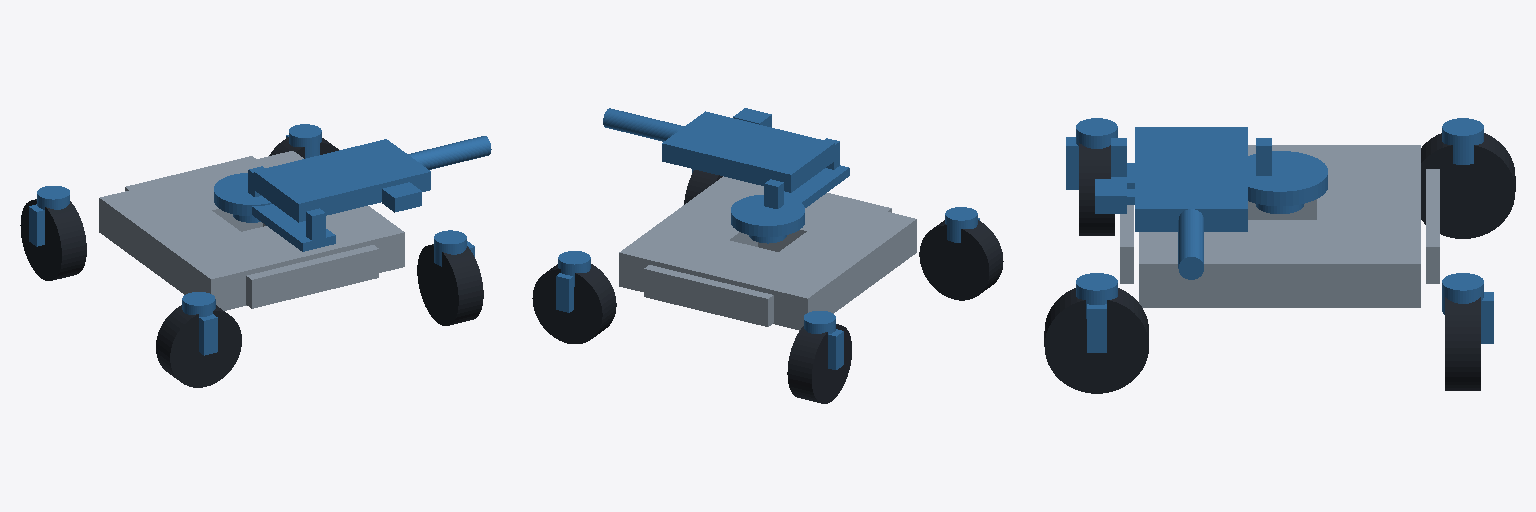
robot.urdf — tunnel_sentinel:
<?xml version='1.0' encoding='utf-8'?>
<robot name="tunnel_sentinel">
  <link name="base_link">
    <inertial>
      <origin xyz="0 0 0.00586978866055" rpy="0 0 0" />
      <mass value="38.1035776062" />
      <inertia ixx="1.02391846654" iyy="1.02391846655" izz="1.95088962633" ixy="0" ixz="0" iyz="0" />
    </inertial>
    <visual name="base_link_visual">
      <geometry>
        <mesh filename="meshes/chassis.stl" />
      </geometry>
      <material name="chassis_material">
        <color rgba="0.60 0.65 0.70 1" />
      </material>
    </visual>
    <collision name="base_link_collision">
      <geometry>
        <mesh filename="meshes/chassis.stl" />
      </geometry>
    </collision>
  </link>
  <link name="gimbal_yaw_link">
    <inertial>
      <origin xyz="-0.00527983192955 0.037796342411 0.0456967479311" rpy="0 0 0" />
      <mass value="11.4819142525" />
      <inertia ixx="0.102749561255" iyy="0.169291860926" izz="0.256619770567" ixy="-0.010778472544" ixz="0.00117021289422" iyz="0.00142237073929" />
    </inertial>
    <visual name="gimbal_yaw_link_visual">
      <geometry>
        <mesh filename="meshes/gimbal_yaw.stl" />
      </geometry>
      <material name="gimbal_yaw_material">
        <color rgba="0.25 0.48 0.68 1" />
      </material>
    </visual>
    <collision name="gimbal_yaw_link_collision">
      <geometry>
        <mesh filename="meshes/gimbal_yaw.stl" />
      </geometry>
    </collision>
  </link>
  <link name="gimbal_pitch_link">
    <inertial>
      <origin xyz="0.133070260132 -0.0655277685404 0" rpy="0 0 0" />
      <mass value="1.82471587885" />
      <inertia ixx="0.00405849922592" iyy="0.0131994867003" izz="0.0158053385647" ixy="0.00308032882862" ixz="0" iyz="0" />
    </inertial>
    <visual name="gimbal_pitch_link_visual">
      <geometry>
        <mesh filename="meshes/gimbal_pitch.stl" />
      </geometry>
      <material name="gimbal_pitch_material">
        <color rgba="0.25 0.48 0.68 1" />
      </material>
    </visual>
    <collision name="gimbal_pitch_link_collision">
      <geometry>
        <mesh filename="meshes/gimbal_pitch.stl" />
      </geometry>
    </collision>
  </link>
  <link name="front_right_steering_link">
    <inertial>
      <origin xyz="0.00866419643516 0 -0.0156793481547" rpy="0 0 0" />
      <mass value="0.217830303563" />
      <inertia ixx="0.000234818798716" iyy="0.000264436848785" izz="0.000367075647958" ixy="0" ixz="4.9125047133e-05" iyz="0" />
    </inertial>
    <visual name="front_right_steering_link_visual">
      <geometry>
        <mesh filename="meshes/steering.stl" />
      </geometry>
      <material name="steering_material">
        <color rgba="0.25 0.48 0.68 1" />
      </material>
    </visual>
    <collision name="front_right_steering_link_collision">
      <geometry>
        <mesh filename="meshes/steering.stl" />
      </geometry>
    </collision>
  </link>
  <link name="front_right_wheel_link">
    <inertial>
      <origin xyz="-0.03 -4.44383418952e-12 0" rpy="0 0 0" />
      <mass value="0.340470103833" />
      <inertia ixx="0.000307487042668" iyy="0.000255884532628" izz="0.00025588457234" ixy="0" ixz="0" iyz="0" />
    </inertial>
    <visual name="front_right_wheel_link_visual">
      <geometry>
        <mesh filename="meshes/wheel.stl" />
      </geometry>
      <material name="wheel_material">
        <color rgba="0.18 0.20 0.23 1" />
      </material>
    </visual>
    <collision name="front_right_wheel_link_collision">
      <geometry>
        <mesh filename="meshes/wheel.stl" />
      </geometry>
    </collision>
  </link>
  <link name="rear_right_steering_link">
    <inertial>
      <origin xyz="0.00866419643516 0 -0.0156793481547" rpy="0 0 0" />
      <mass value="0.217830303563" />
      <inertia ixx="0.000234818798716" iyy="0.000264436848785" izz="0.000367075647958" ixy="0" ixz="4.9125047133e-05" iyz="0" />
    </inertial>
    <visual name="rear_right_steering_link_visual">
      <geometry>
        <mesh filename="meshes/steering.stl" />
      </geometry>
      <material name="steering_material">
        <color rgba="0.25 0.48 0.68 1" />
      </material>
    </visual>
    <collision name="rear_right_steering_link_collision">
      <geometry>
        <mesh filename="meshes/steering.stl" />
      </geometry>
    </collision>
  </link>
  <link name="rear_right_wheel_link">
    <inertial>
      <origin xyz="-0.03 -4.44383418952e-12 0" rpy="0 0 0" />
      <mass value="0.340470103833" />
      <inertia ixx="0.000307487042668" iyy="0.000255884532628" izz="0.00025588457234" ixy="0" ixz="0" iyz="0" />
    </inertial>
    <visual name="rear_right_wheel_link_visual">
      <geometry>
        <mesh filename="meshes/wheel.stl" />
      </geometry>
      <material name="wheel_material">
        <color rgba="0.18 0.20 0.23 1" />
      </material>
    </visual>
    <collision name="rear_right_wheel_link_collision">
      <geometry>
        <mesh filename="meshes/wheel.stl" />
      </geometry>
    </collision>
  </link>
  <link name="rear_left_steering_link">
    <inertial>
      <origin xyz="0.00866419643516 0 -0.0156793481547" rpy="0 0 0" />
      <mass value="0.217830303563" />
      <inertia ixx="0.000234818798716" iyy="0.000264436848785" izz="0.000367075647958" ixy="0" ixz="4.9125047133e-05" iyz="0" />
    </inertial>
    <visual name="rear_left_steering_link_visual">
      <geometry>
        <mesh filename="meshes/steering.stl" />
      </geometry>
      <material name="steering_material">
        <color rgba="0.25 0.48 0.68 1" />
      </material>
    </visual>
    <collision name="rear_left_steering_link_collision">
      <geometry>
        <mesh filename="meshes/steering.stl" />
      </geometry>
    </collision>
  </link>
  <link name="rear_left_wheel_link">
    <inertial>
      <origin xyz="-0.03 -4.44383418952e-12 0" rpy="0 0 0" />
      <mass value="0.340470103833" />
      <inertia ixx="0.000307487042668" iyy="0.000255884532628" izz="0.00025588457234" ixy="0" ixz="0" iyz="0" />
    </inertial>
    <visual name="rear_left_wheel_link_visual">
      <geometry>
        <mesh filename="meshes/wheel.stl" />
      </geometry>
      <material name="wheel_material">
        <color rgba="0.18 0.20 0.23 1" />
      </material>
    </visual>
    <collision name="rear_left_wheel_link_collision">
      <geometry>
        <mesh filename="meshes/wheel.stl" />
      </geometry>
    </collision>
  </link>
  <link name="front_left_steering_link">
    <inertial>
      <origin xyz="0.00866419643516 0 -0.0156793481547" rpy="0 0 0" />
      <mass value="0.217830303563" />
      <inertia ixx="0.000234818798716" iyy="0.000264436848785" izz="0.000367075647958" ixy="0" ixz="4.9125047133e-05" iyz="0" />
    </inertial>
    <visual name="front_left_steering_link_visual">
      <geometry>
        <mesh filename="meshes/steering.stl" />
      </geometry>
      <material name="steering_material">
        <color rgba="0.25 0.48 0.68 1" />
      </material>
    </visual>
    <collision name="front_left_steering_link_collision">
      <geometry>
        <mesh filename="meshes/steering.stl" />
      </geometry>
    </collision>
  </link>
  <link name="front_left_wheel_link">
    <inertial>
      <origin xyz="-0.03 -4.44383418952e-12 0" rpy="0 0 0" />
      <mass value="0.340470103833" />
      <inertia ixx="0.000307487042668" iyy="0.000255884532628" izz="0.00025588457234" ixy="0" ixz="0" iyz="0" />
    </inertial>
    <visual name="front_left_wheel_link_visual">
      <geometry>
        <mesh filename="meshes/wheel.stl" />
      </geometry>
      <material name="wheel_material">
        <color rgba="0.18 0.20 0.23 1" />
      </material>
    </visual>
    <collision name="front_left_wheel_link_collision">
      <geometry>
        <mesh filename="meshes/wheel.stl" />
      </geometry>
    </collision>
  </link>
  <joint name="gimbal_yaw_joint" type="continuous">
    <parent link="base_link" />
    <child link="gimbal_yaw_link" />
    <origin xyz="0 0 0.06525" rpy="0 0 0" />
    <axis xyz="0 0 1" />
  </joint>
  <joint name="gimbal_pitch_joint" type="continuous">
    <parent link="gimbal_yaw_link" />
    <child link="gimbal_pitch_link" />
    <origin xyz="0 -0.11 0.045" rpy="0 0 0" />
    <axis xyz="0 -1 0" />
  </joint>
  <joint name="front_right_steering_joint" type="continuous">
    <parent link="base_link" />
    <child link="front_right_steering_link" />
    <origin xyz="0.2273 -0.2273 0.015" rpy="0 0 0" />
    <axis xyz="0 0 1" />
  </joint>
  <joint name="front_right_wheel_joint" type="continuous">
    <parent link="front_right_steering_link" />
    <child link="front_right_wheel_link" />
    <origin xyz="0.03 0 -0.063" rpy="0 0 0" />
    <axis xyz="1 0 0" />
  </joint>
  <joint name="rear_right_steering_joint" type="continuous">
    <parent link="base_link" />
    <child link="rear_right_steering_link" />
    <origin xyz="-0.2273 -0.2273 0.015" rpy="0 0 -1.57079632679" />
    <axis xyz="0 0 1" />
  </joint>
  <joint name="rear_right_wheel_joint" type="continuous">
    <parent link="rear_right_steering_link" />
    <child link="rear_right_wheel_link" />
    <origin xyz="0.03 0 -0.063" rpy="0 0 0" />
    <axis xyz="1 0 0" />
  </joint>
  <joint name="rear_left_steering_joint" type="continuous">
    <parent link="base_link" />
    <child link="rear_left_steering_link" />
    <origin xyz="-0.2273 0.2273 0.015" rpy="0 0 3.14159265359" />
    <axis xyz="0 0 1" />
  </joint>
  <joint name="rear_left_wheel_joint" type="continuous">
    <parent link="rear_left_steering_link" />
    <child link="rear_left_wheel_link" />
    <origin xyz="0.03 0 -0.063" rpy="0 0 0" />
    <axis xyz="1 0 0" />
  </joint>
  <joint name="front_left_steering_joint" type="continuous">
    <parent link="base_link" />
    <child link="front_left_steering_link" />
    <origin xyz="0.2273 0.2273 0.015" rpy="0 0 1.57079632679" />
    <axis xyz="0 0 1" />
  </joint>
  <joint name="front_left_wheel_joint" type="continuous">
    <parent link="front_left_steering_link" />
    <child link="front_left_wheel_link" />
    <origin xyz="0.03 0 -0.063" rpy="0 0 0" />
    <axis xyz="1 0 0" />
  </joint>
</robot>

--- Facts derived from the render (not from the file) ---
Views: 3 orthographic renders of the robot side by side, from view 1: azimuth 30°, elevation 25°; view 2: azimuth 150°, elevation 25°; view 3: azimuth 270°, elevation 25°.
Model tunnel_sentinel with 11 links and 10 joints (10 continuous), rooted at base_link, posed every joint at zero.
Links seen in each view (by area): view 1: base_link, gimbal_pitch_link, rear_right_wheel_link, front_right_wheel_link, gimbal_yaw_link, rear_left_wheel_link, rear_right_steering_link, rear_left_steering_link, front_right_steering_link, front_left_steering_link; view 2: base_link, gimbal_pitch_link, rear_right_wheel_link, gimbal_yaw_link, front_left_wheel_link, rear_left_wheel_link, front_left_steering_link, rear_left_steering_link, rear_right_steering_link, front_right_wheel_link; view 3: base_link, gimbal_pitch_link, front_right_wheel_link, rear_left_wheel_link, gimbal_yaw_link, front_left_wheel_link, rear_right_wheel_link, front_right_steering_link, front_left_steering_link, rear_right_steering_link, rear_left_steering_link.
Link boxes in pixels (x1,y1,x2,y2): base_link: (99, 151, 404, 310); gimbal_pitch_link: (254, 136, 491, 222); rear_right_wheel_link: (156, 305, 241, 387); front_right_wheel_link: (417, 244, 483, 325); gimbal_yaw_link: (214, 166, 335, 251); rear_left_wheel_link: (20, 199, 86, 280); rear_right_steering_link: (182, 292, 217, 355); rear_left_steering_link: (29, 186, 69, 246); front_right_steering_link: (434, 230, 474, 266); front_left_steering_link: (286, 124, 321, 158); base_link: (619, 176, 916, 330); gimbal_pitch_link: (603, 108, 834, 192); rear_right_wheel_link: (919, 220, 1003, 300); gimbal_yaw_link: (731, 138, 849, 243); front_left_wheel_link: (532, 264, 616, 343); rear_left_wheel_link: (787, 324, 851, 403); front_left_steering_link: (556, 251, 590, 312); rear_left_steering_link: (804, 311, 843, 369); rear_right_steering_link: (945, 207, 979, 242); front_right_wheel_link: (684, 170, 722, 204); base_link: (1120, 145, 1439, 307); gimbal_pitch_link: (1095, 127, 1247, 279); front_right_wheel_link: (1044, 288, 1148, 393); rear_left_wheel_link: (1421, 133, 1515, 238); gimbal_yaw_link: (1111, 138, 1327, 213); front_left_wheel_link: (1445, 297, 1480, 390); rear_right_wheel_link: (1079, 143, 1114, 235); front_right_steering_link: (1076, 273, 1117, 352); front_left_steering_link: (1442, 273, 1493, 343); rear_right_steering_link: (1066, 118, 1117, 189); rear_left_steering_link: (1442, 118, 1483, 164).
Size in the robot's own frame: 0.6523 by 0.5846 by 0.2393 metres.
Meshes: 5 distinct files referenced, 11 mesh visuals loaded (5 ASCII STL).
